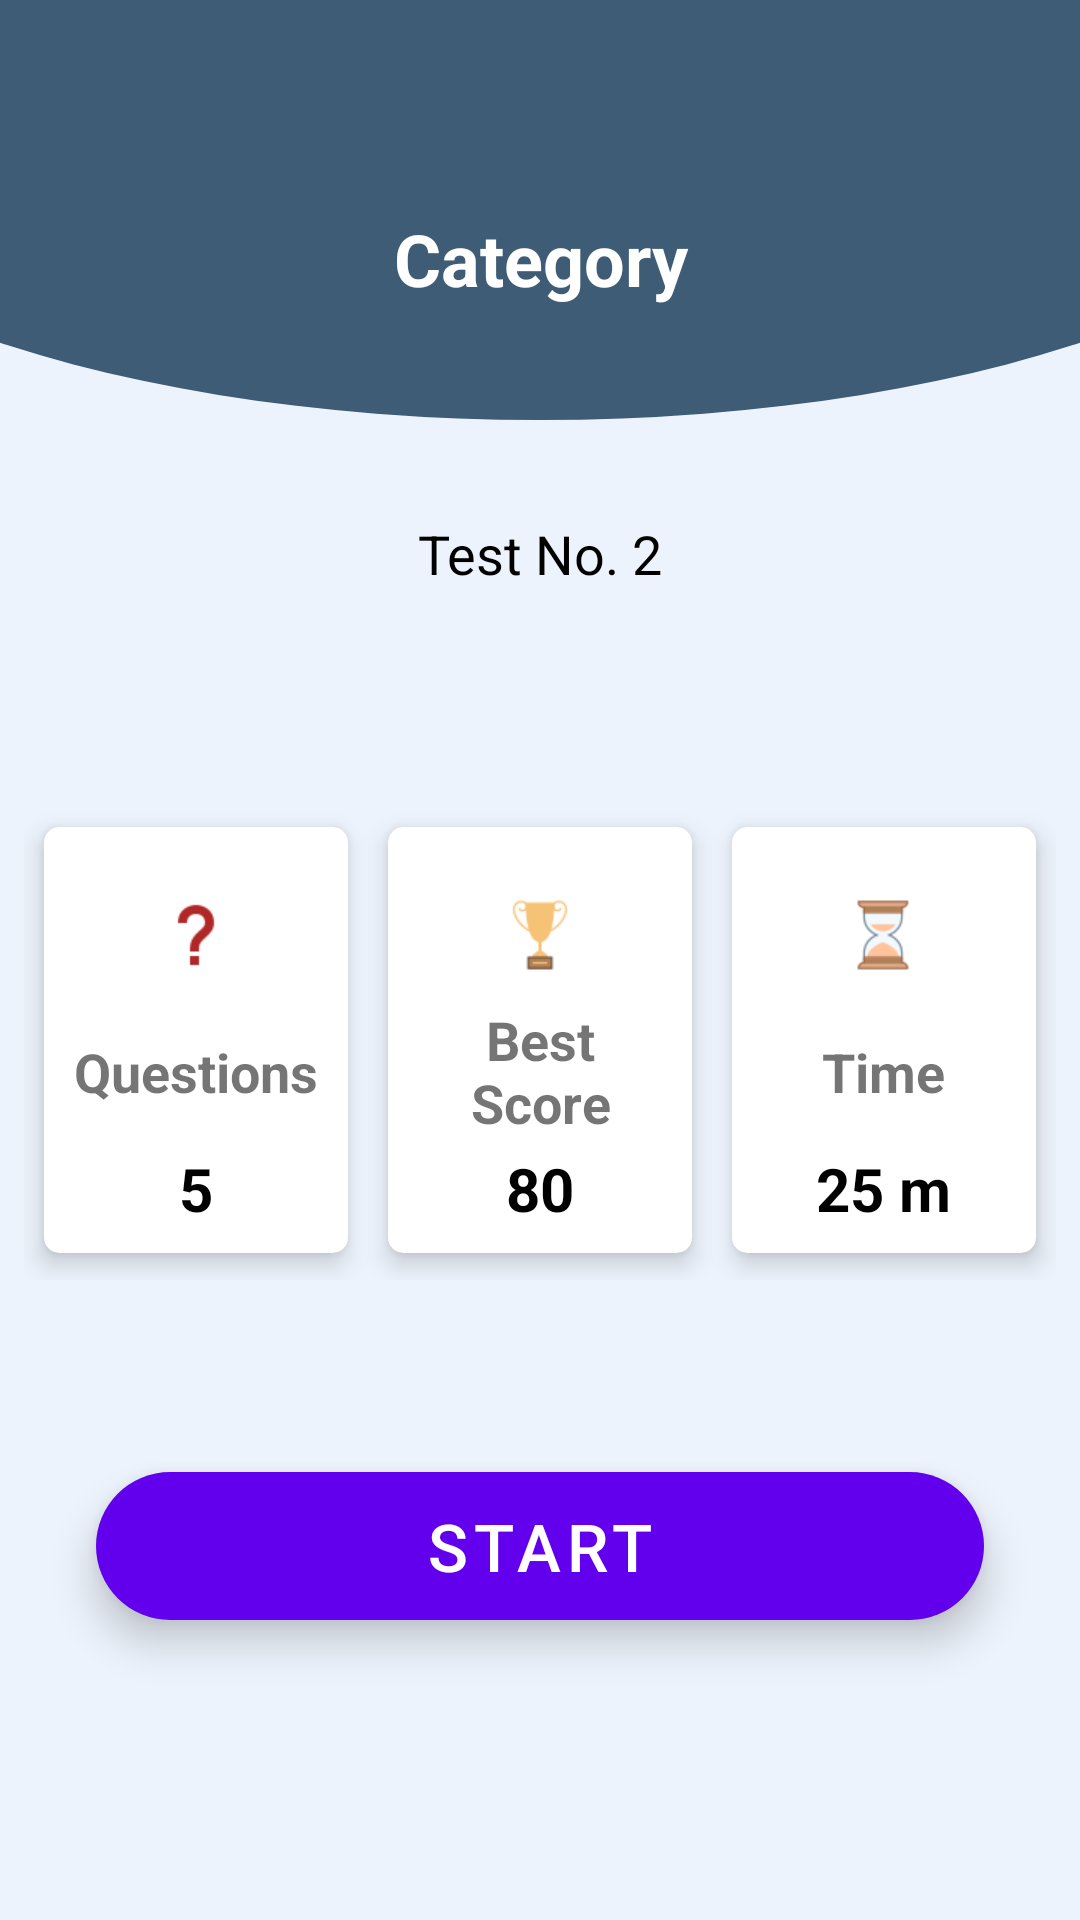

Screen size 1080 x 1920. Icon name, then its box in pixels as [x1, y1, x2, y2]:
award: [513, 900, 567, 970]
clock: [857, 900, 909, 970]
